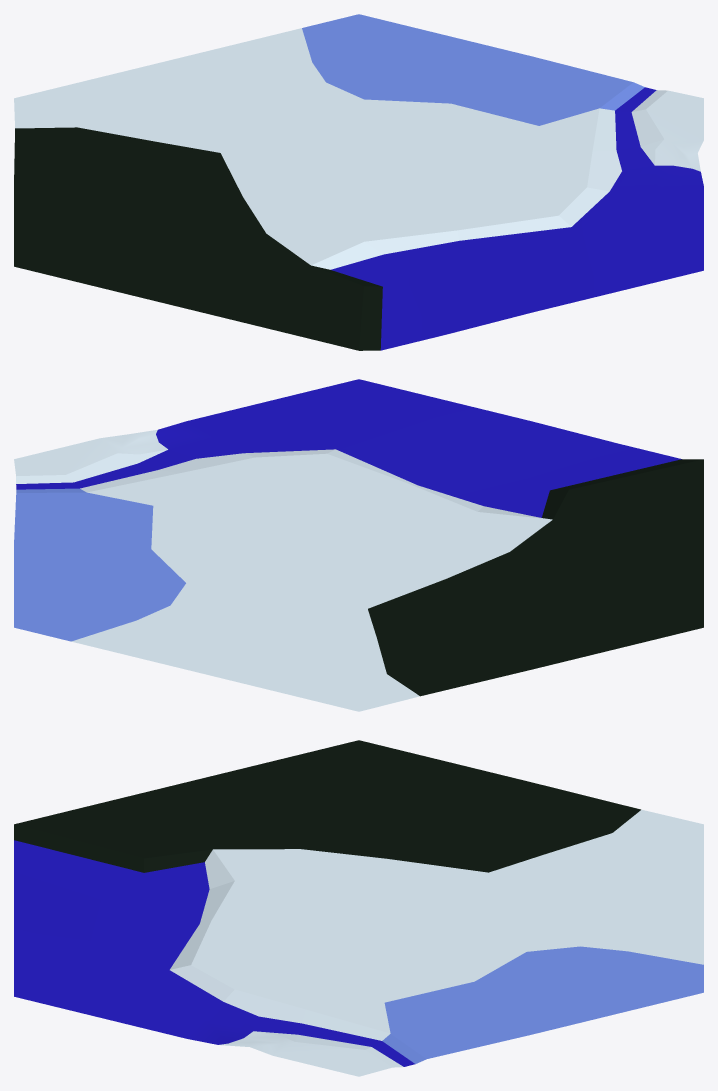
File: suelo.fbx
3 renders of one model, top to bottom at view 1: azimuth 30°, elevation 25°; view 2: azimuth 150°, elevation 25°; view 3: azimuth 270°, elevation 25°, orthographic.
Visible parts, largest first — view 1: Cylinder002; view 2: Cylinder002; view 3: Cylinder002.
Boxes of the visible parts, x1,y1,x2,y2 form: Cylinder002: (14, 14, 703, 350); Cylinder002: (14, 379, 703, 711); Cylinder002: (14, 740, 703, 1076).
Bounding box in the file's own units: 174 × 1.26 × 151.
